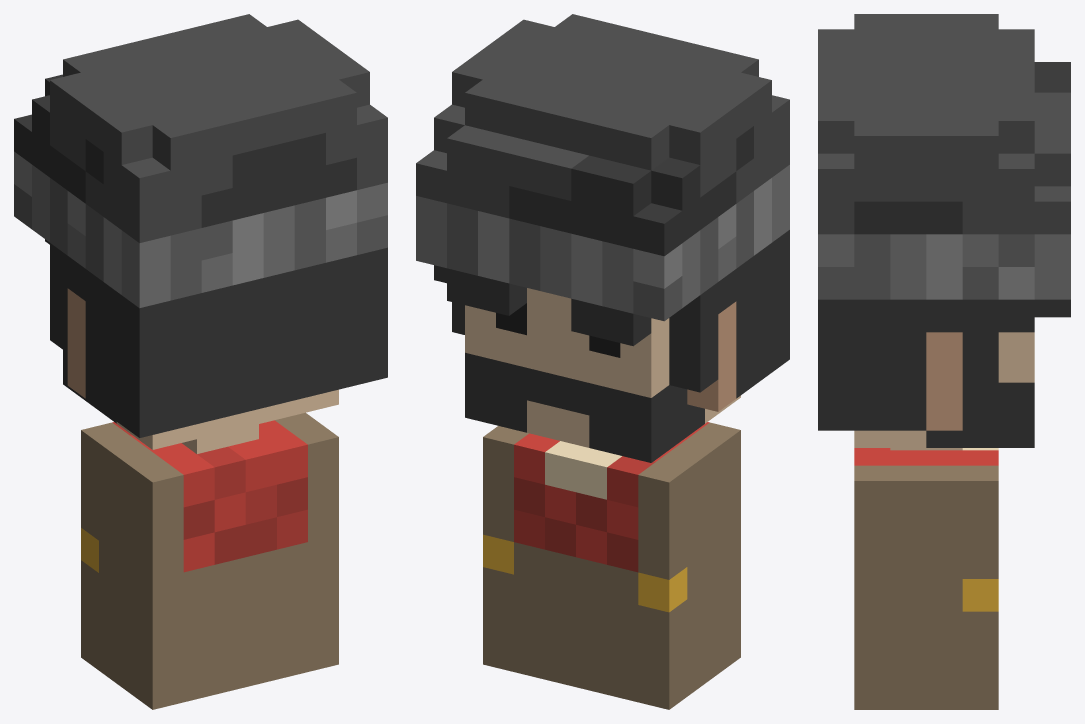
The model's file is Character-27-body.obj.
The picture shows the model from 3 angles, left to right: view 1: azimuth 30°, elevation 25°; view 2: azimuth 150°, elevation 25°; view 3: azimuth 270°, elevation 25°; orthographic projection.
Visible parts, largest first — view 1: body; view 2: body; view 3: body.
Boxes of the visible parts, bbox=[...] form: body: bbox=[14, 14, 387, 709]; body: bbox=[416, 14, 789, 709]; body: bbox=[818, 14, 1070, 709].
Size of the model in its own units: 8 by 18 by 7.
1 material, 1 textured.
